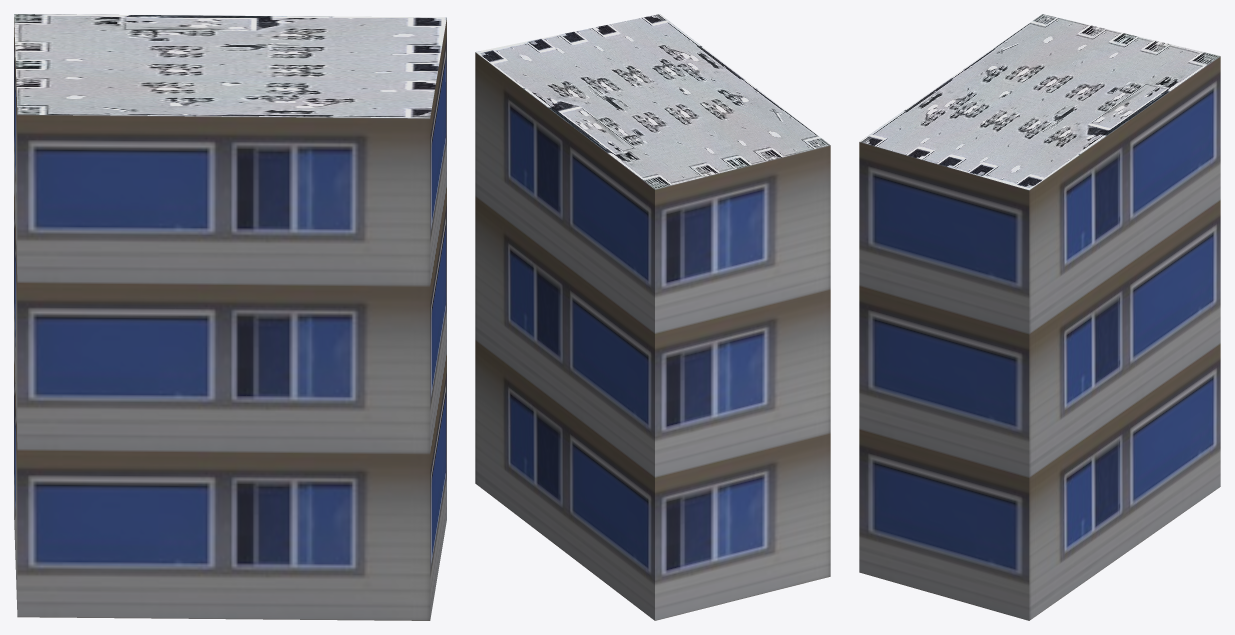
Rendered from ResTex__3416.fbx.
The picture shows the model from 3 angles, left to right: view 1: azimuth 30°, elevation 25°; view 2: azimuth 150°, elevation 25°; view 3: azimuth 270°, elevation 25°; orthographic projection. The views are drawn at different scales.
Parts seen in each view (by area): view 1: CityEngineMaterial_23_m, CityEngineMaterial_4_m; view 2: CityEngineMaterial_23_m, CityEngineMaterial_4_m; view 3: CityEngineMaterial_23_m, CityEngineMaterial_4_m.
Part boxes in pixels (bbox=[...]): CityEngineMaterial_23_m: bbox=[14, 17, 446, 620]; CityEngineMaterial_4_m: bbox=[14, 14, 446, 118]; CityEngineMaterial_23_m: bbox=[475, 52, 830, 620]; CityEngineMaterial_4_m: bbox=[475, 14, 830, 189]; CityEngineMaterial_23_m: bbox=[859, 56, 1220, 620]; CityEngineMaterial_4_m: bbox=[859, 14, 1220, 190].
Size of the model in its own units: 7.9 by 9 by 6.85.
2 materials, 2 textured.
